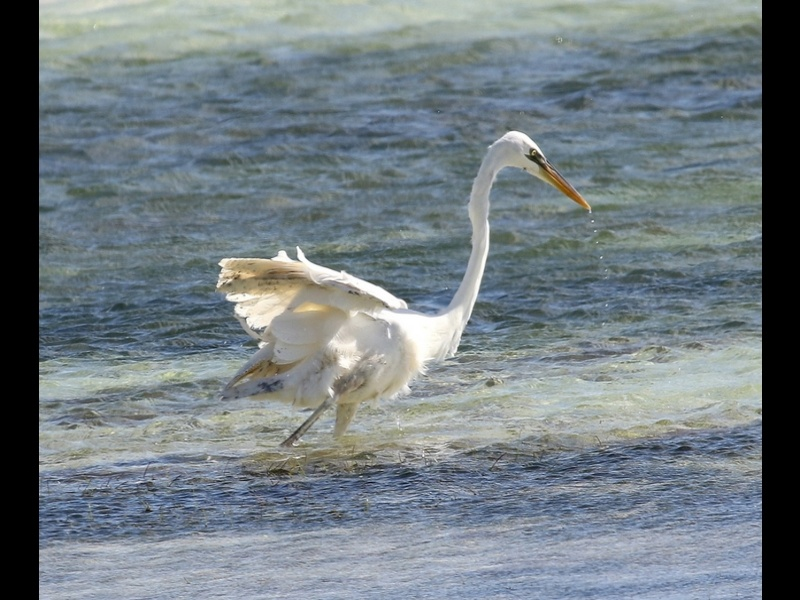heron: (212, 126, 594, 460)
